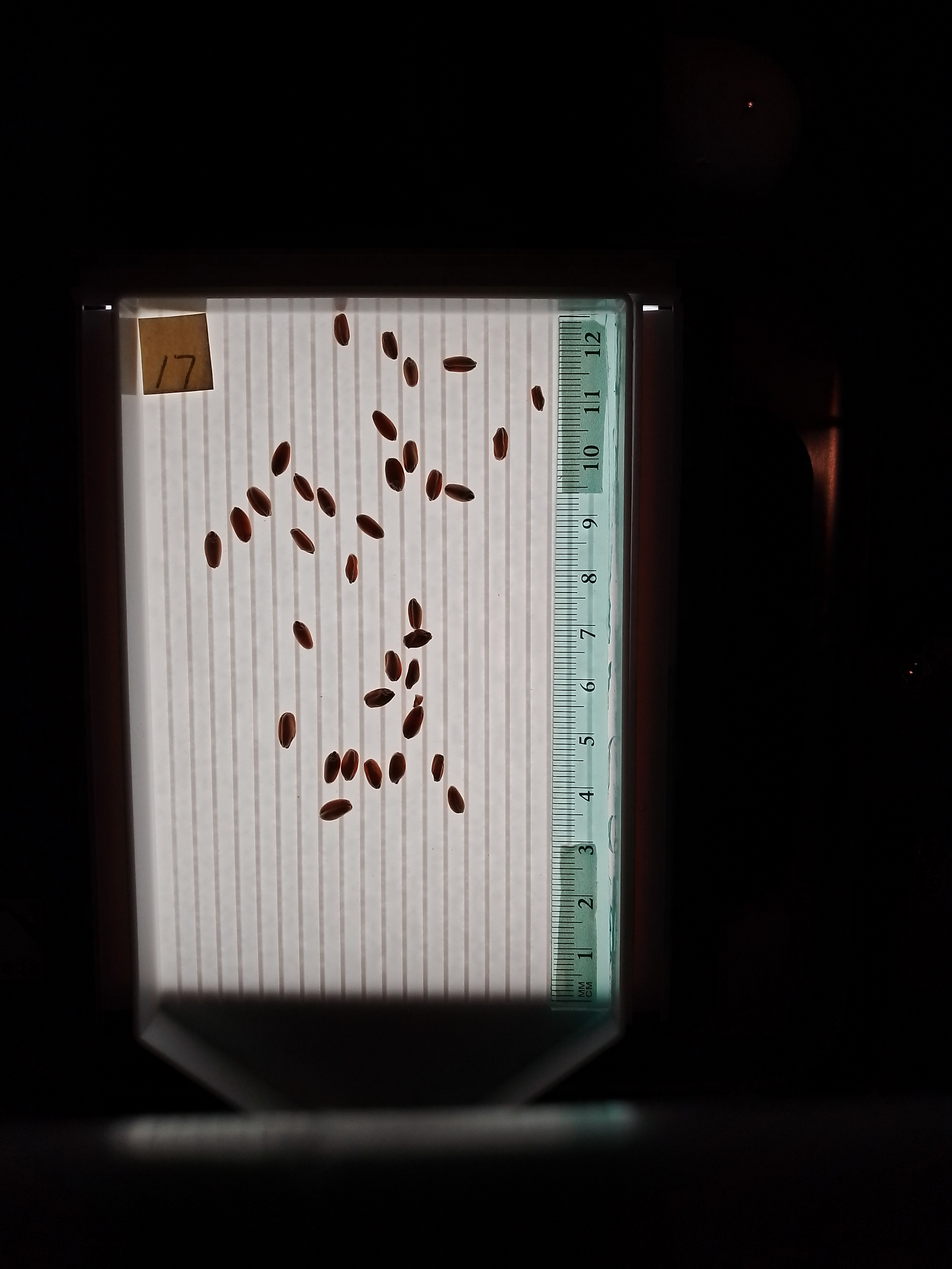seed mask: (320, 798, 352, 821), (247, 487, 271, 517), (373, 411, 397, 441), (403, 706, 424, 739), (231, 508, 251, 542), (357, 515, 384, 540), (204, 532, 222, 568), (271, 442, 290, 476), (278, 713, 296, 748), (386, 458, 405, 491), (365, 688, 394, 708), (291, 529, 314, 554), (364, 759, 383, 789), (443, 356, 476, 373), (293, 621, 313, 649), (294, 474, 314, 502), (446, 483, 474, 503), (341, 750, 359, 780), (317, 488, 336, 516), (404, 630, 431, 649), (426, 470, 442, 501), (334, 313, 349, 346), (389, 754, 406, 783), (325, 753, 341, 783), (493, 428, 508, 460), (447, 787, 465, 813), (403, 441, 418, 472), (386, 651, 401, 681), (408, 599, 423, 628), (382, 332, 398, 359), (403, 358, 418, 386), (406, 660, 420, 688), (431, 755, 445, 782), (345, 556, 357, 583), (532, 387, 544, 411)
